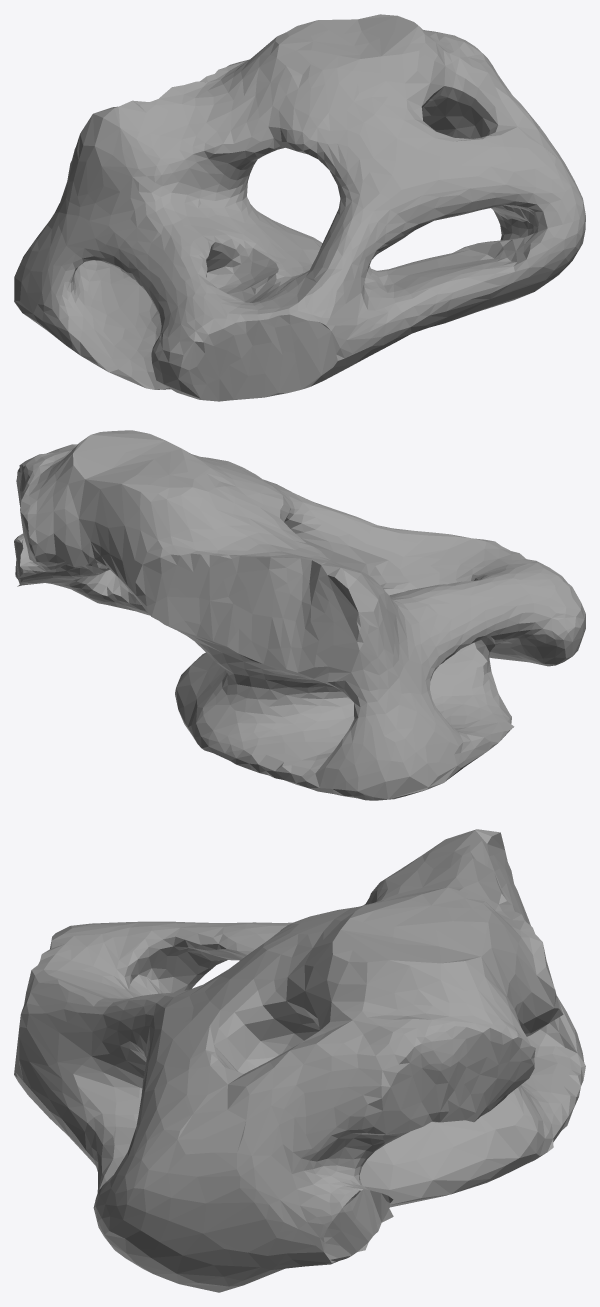
File: Rock-5.glb
3 renders of one model, top to bottom at view 1: azimuth 30°, elevation 25°; view 2: azimuth 150°, elevation 25°; view 3: azimuth 270°, elevation 25°, orthographic. The views are drawn at different scales.
Visible parts, largest first — view 1: Rock_048; view 2: Rock_048; view 3: Rock_048.
Part boxes in pixels (bbox=[...]): Rock_048: bbox=[14, 14, 585, 401]; Rock_048: bbox=[14, 430, 585, 800]; Rock_048: bbox=[14, 829, 585, 1292].
Bounding box in the file's own units: 14.19 × 6.87 × 10.92.
Materials: 1 (1 with a texture image).
